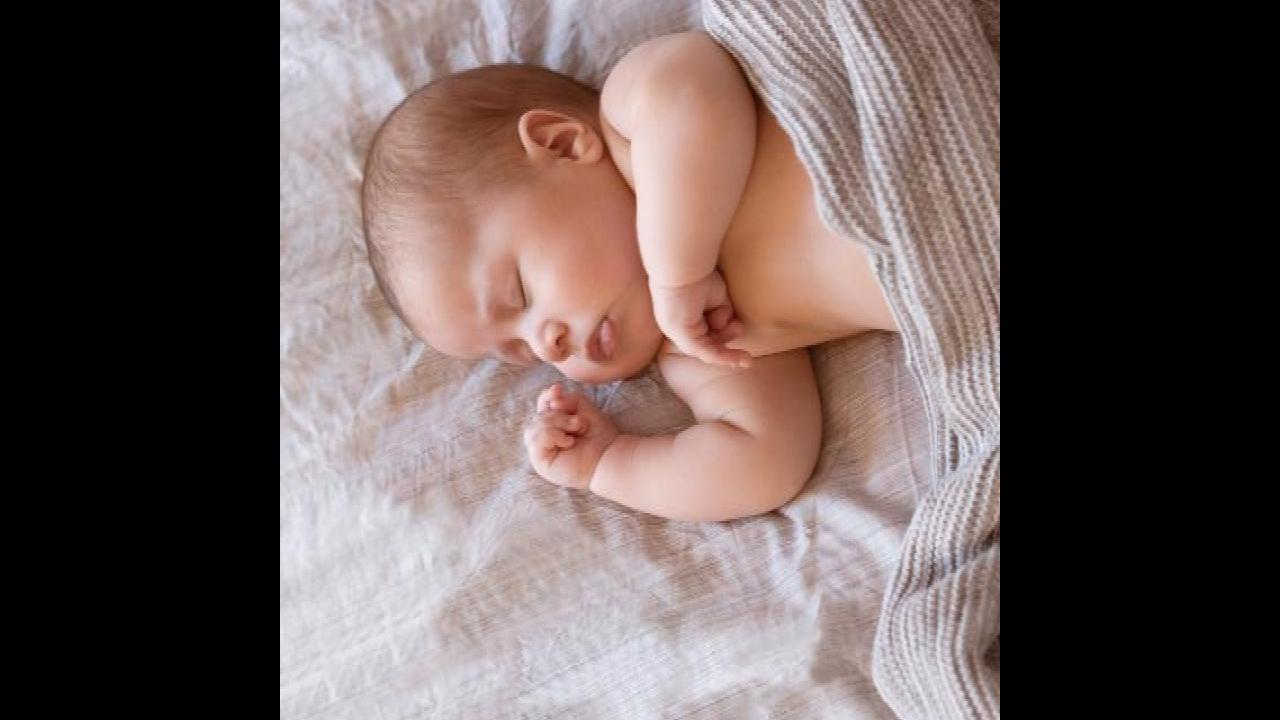hand: (648, 256, 756, 380), (521, 377, 618, 499)
